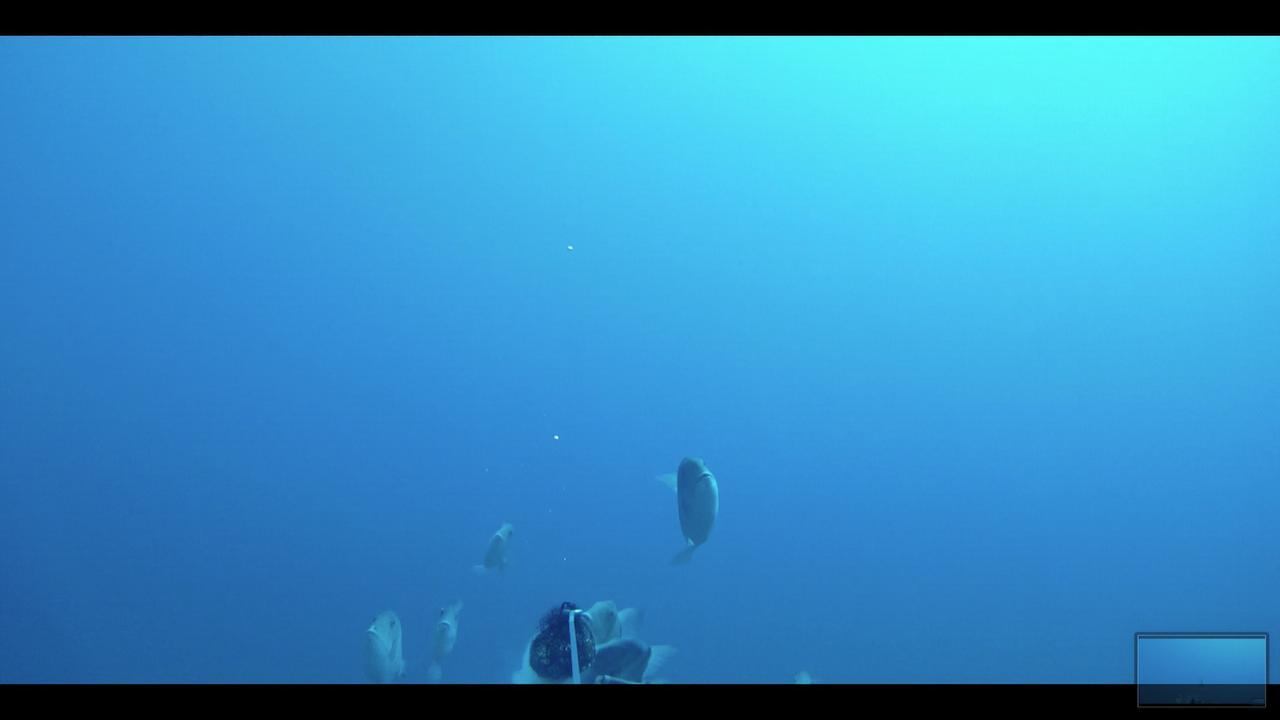balistes: (652, 450, 723, 571), (418, 590, 477, 674), (357, 600, 414, 680), (467, 505, 526, 582)
